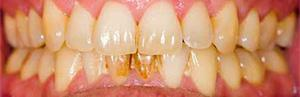LLCI_sdecay: (131, 54, 158, 81)
LLC_healthy: (187, 48, 217, 96)
LLC_mdecay: (216, 55, 242, 89)
LLLI_healthy: (159, 54, 186, 86)
LRCI_mdecay: (105, 55, 131, 82)
LRC_healthy: (55, 51, 81, 91)
LRLI_healthy: (82, 52, 104, 83)
UL1BC_healthy: (213, 1, 239, 53)
UL2BC_healthy: (239, 8, 261, 52)
ULCI_healthy: (138, 2, 183, 54)
ULC_healthy: (183, 3, 213, 49)
URCI_healthy: (95, 2, 138, 54)
URC_healthy: (42, 1, 65, 51)
URLI_healthy: (67, 2, 94, 51)
